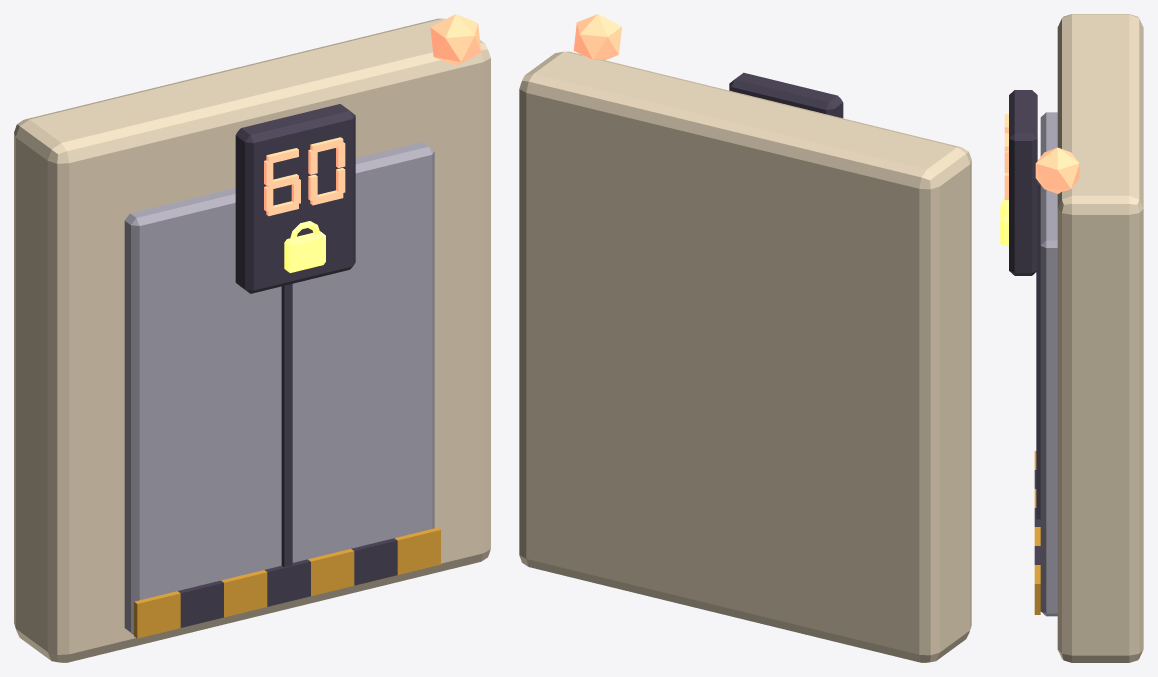
File: MOONSHIFT_ENV_Door_Lock_Timer_Panel.glb
3 views of the same model, side by side, from view 1: azimuth 30°, elevation 25°; view 2: azimuth 150°, elevation 25°; view 3: azimuth 270°, elevation 25° (orthographic). The views are drawn at different scales.
Parts seen in each view (by area): view 1: Lock_DoorFrame, Lock_Door, Lock_Panel, Lock_Hazard, Lock_DoorSplit0, Lock_WarnLamp, Lock_PadlockBody; view 2: Lock_DoorFrame, Lock_Panel, Lock_WarnLamp; view 3: Lock_DoorFrame, Lock_Door, Lock_Panel, Lock_WarnLamp, Lock_DoorSplit0, Lock_Hazard, Lock_PadlockBody.
Part boxes in pixels (x1,y1,x2,y2): Lock_DoorFrame: [14, 18, 490, 662]; Lock_Door: [124, 142, 434, 634]; Lock_Panel: [235, 104, 355, 293]; Lock_Hazard: [134, 527, 440, 638]; Lock_DoorSplit0: [281, 284, 292, 567]; Lock_WarnLamp: [430, 14, 481, 65]; Lock_PadlockBody: [284, 231, 325, 272]; Lock_DoorFrame: [519, 51, 971, 662]; Lock_Panel: [729, 72, 843, 118]; Lock_WarnLamp: [573, 14, 621, 60]; Lock_DoorFrame: [1057, 14, 1143, 662]; Lock_Door: [1040, 112, 1057, 616]; Lock_Panel: [1009, 90, 1037, 275]; Lock_WarnLamp: [1035, 147, 1079, 193]; Lock_DoorSplit0: [1036, 181, 1040, 519]; Lock_Hazard: [1034, 451, 1040, 614]; Lock_PadlockBody: [1000, 204, 1008, 245].
Size of the model in its own units: 1.6 by 1.94 by 0.5.
